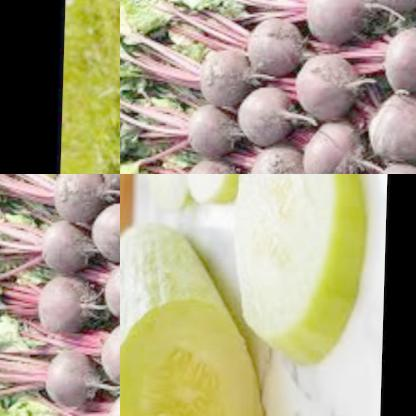beet: (289, 48, 364, 120), (44, 341, 113, 411), (228, 84, 303, 145), (179, 94, 245, 161), (33, 210, 99, 277), (195, 44, 264, 105), (300, 118, 374, 174), (300, 0, 384, 49), (245, 10, 303, 74), (33, 274, 95, 333), (368, 91, 416, 159), (49, 174, 117, 221), (381, 21, 416, 95), (248, 137, 314, 174), (81, 200, 120, 260), (99, 317, 120, 383), (102, 253, 120, 324), (179, 158, 241, 174)
cucumber: (120, 209, 269, 416), (226, 174, 360, 362), (133, 174, 200, 229), (168, 174, 262, 212)
